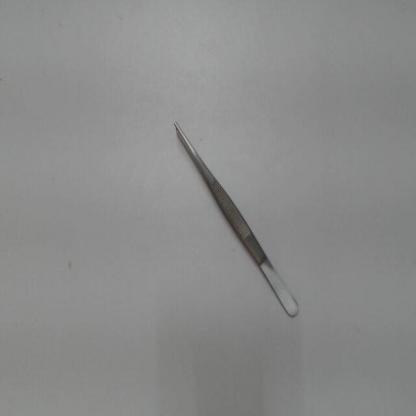Gillies Toothed Dissector: (164, 110, 308, 327)
